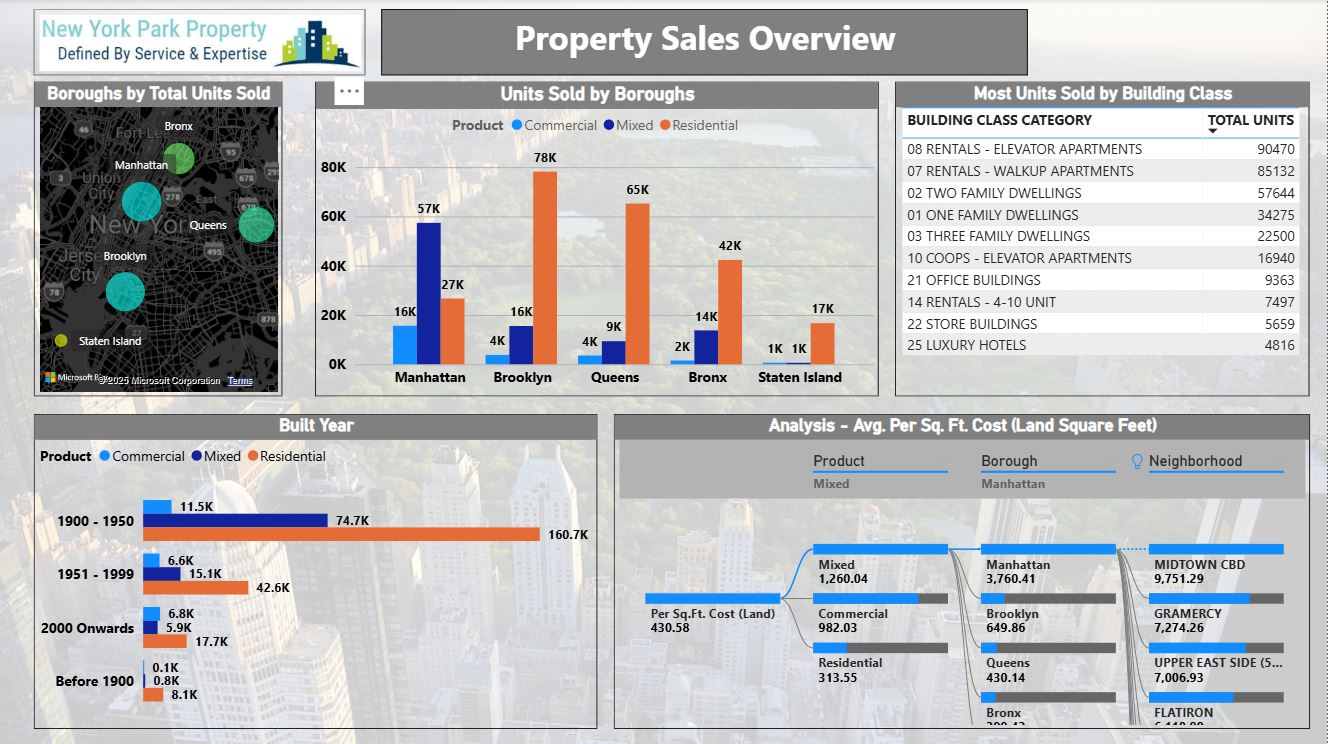

Layout of this report page (visuals, bound fields, positions):
{"tool":"powerbi","page":{"name":"Overview","canvas":[1280,720],"ordinal":0},"visuals":[{"type":"textbox","box":[368,10,624,64],"z":0},{"type":"clusteredColumnChart","title":"Units Sold by Boroughs","fields":{"Category":["NYC Property_Prices(2013-2015).Borough Name"],"Y":["Sum(NYC Property_Prices(2013-2015).TOTAL UNITS)"],"Series":["NYC Property_Prices(2013-2015).Product"]},"box":[304,80,544,304],"z":1000},{"type":"tableEx","title":"Most Units Sold by Building Class","fields":{"Values":["NYC Property_Prices(2013-2015).BUILDING CLASS CATEGORY","Sum(NYC Property_Prices(2013-2015).TOTAL UNITS)"]},"box":[864,80,400,304],"z":2000},{"type":"map","title":"Boroughs by Total Units Sold","fields":{"Category":["NYC Property_Prices(2013-2015).Borough Name"],"Size":["Sum(NYC Property_Prices(2013-2015).TOTAL UNITS)"]},"box":[32,80,240,304],"z":3000},{"type":"clusteredBarChart","title":"Built Year","fields":{"Category":["NYC Property_Prices(2013-2015).YEAR BUILT (groups)"],"Y":["Sum(NYC Property_Prices(2013-2015).TOTAL UNITS)"],"Series":["NYC Property_Prices(2013-2015).Product"]},"box":[32,400,544,304],"z":4000},{"type":"decompositionTreeVisual","title":"Analysis - Avg. Per Sq. Ft. Cost (Land Square Feet)","fields":{"Analyze":["Avg(NYC Property_Prices(2013-2015).Per Sq.Ft. Cost (Land))"],"ExplainBy":["NYC Property_Prices(2013-2015).Product","NYC Property_Prices(2013-2015).Borough Name","NYC Property_Prices(2013-2015).NEIGHBORHOOD"]},"box":[592,400,672,304],"z":5000},{"type":"image","box":[32,10,320,64],"z":6000}]}

Visuals, with their boxes in screenshot pixels (x1, y1, x2, y2), scaled from the page's 1280x720 canvas onto the 1328x744 screenshot:
textbox: l=382, t=10, r=1029, b=76
"Units Sold by Boroughs" clusteredColumnChart: l=315, t=83, r=880, b=397
"Most Units Sold by Building Class" tableEx: l=896, t=83, r=1311, b=397
"Boroughs by Total Units Sold" map: l=33, t=83, r=282, b=397
"Built Year" clusteredBarChart: l=33, t=413, r=598, b=727
"Analysis - Avg. Per Sq. Ft. Cost (Land Square Feet)" decompositionTreeVisual: l=614, t=413, r=1311, b=727
image: l=33, t=10, r=365, b=76
